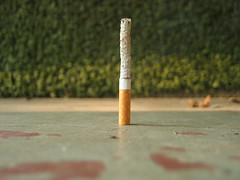cigarette: (117, 15, 133, 127)
